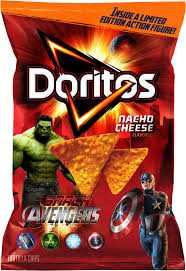Doritos: (12, 20, 168, 255)
